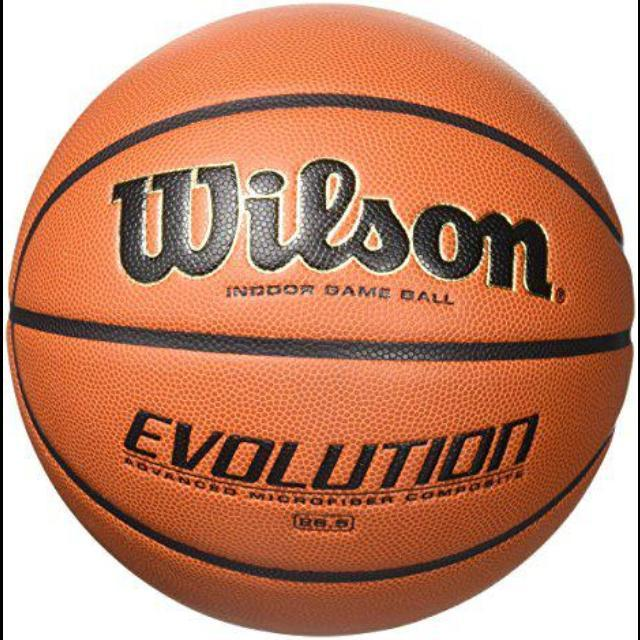basketball: (9, 5, 633, 635)
